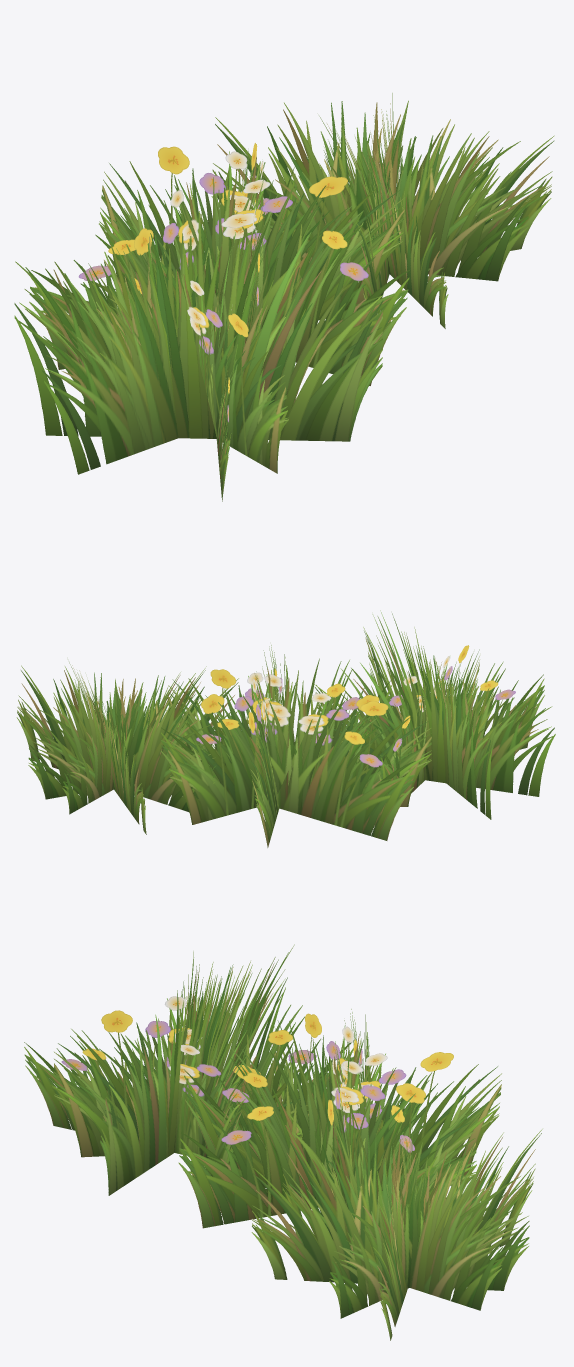
File: Grass_C.fbx
3 views of the same model, one above another, from view 1: azimuth 30°, elevation 25°; view 2: azimuth 150°, elevation 25°; view 3: azimuth 270°, elevation 25° (orthographic). The views are drawn at different scales.
Parts seen in each view (by area): view 1: Grass_C; view 2: Grass_C; view 3: Grass_C.
Part boxes in pixels (bbox=[...]): Grass_C: bbox=[14, 93, 554, 501]; Grass_C: bbox=[16, 610, 555, 847]; Grass_C: bbox=[24, 944, 542, 1340].
Size of the model in its own units: 1.06 by 0.4242 by 0.8831.
1 material, 1 textured.
